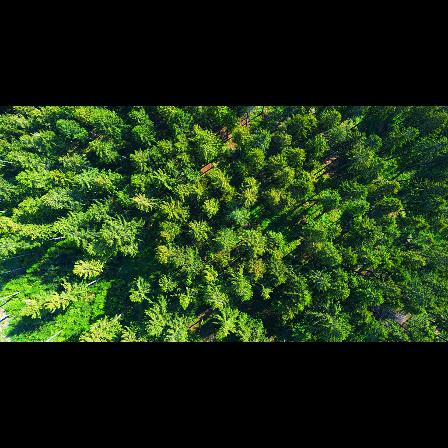Dead: (385, 309, 411, 325)
